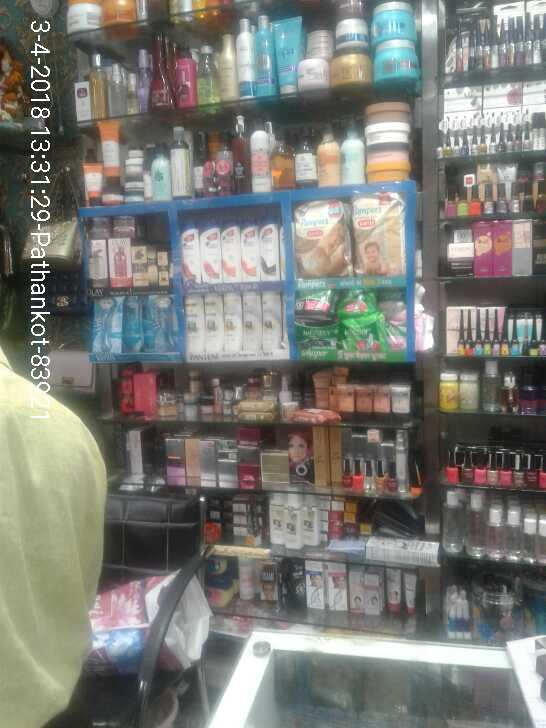venus: (147, 292, 176, 352), (95, 294, 123, 353), (123, 294, 147, 352)
